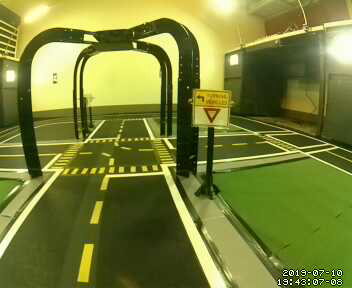Turn Yield: (193, 88, 230, 131)
